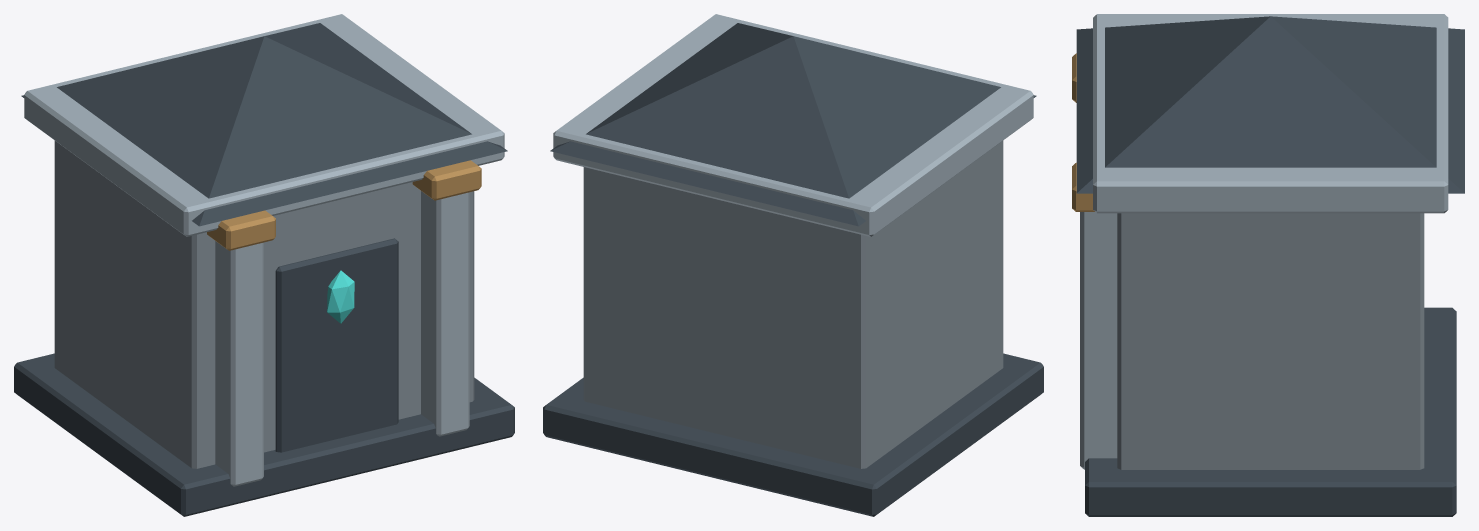
Rendered from SH10_L01_Crypt.fbx.
3 views of the same model, side by side, from view 1: azimuth 30°, elevation 25°; view 2: azimuth 150°, elevation 25°; view 3: azimuth 270°, elevation 25° (orthographic). The views are drawn at different scales.
Visible parts, largest first — view 1: SH10_L01_Crypt; view 2: SH10_L01_Crypt; view 3: SH10_L01_Crypt.
Boxes of the visible parts, x1,y1,x2,y2 form: SH10_L01_Crypt: [14, 14, 514, 516]; SH10_L01_Crypt: [543, 14, 1043, 516]; SH10_L01_Crypt: [1072, 14, 1464, 516].
Bounding box in the file's own units: 260 × 283 × 243.
